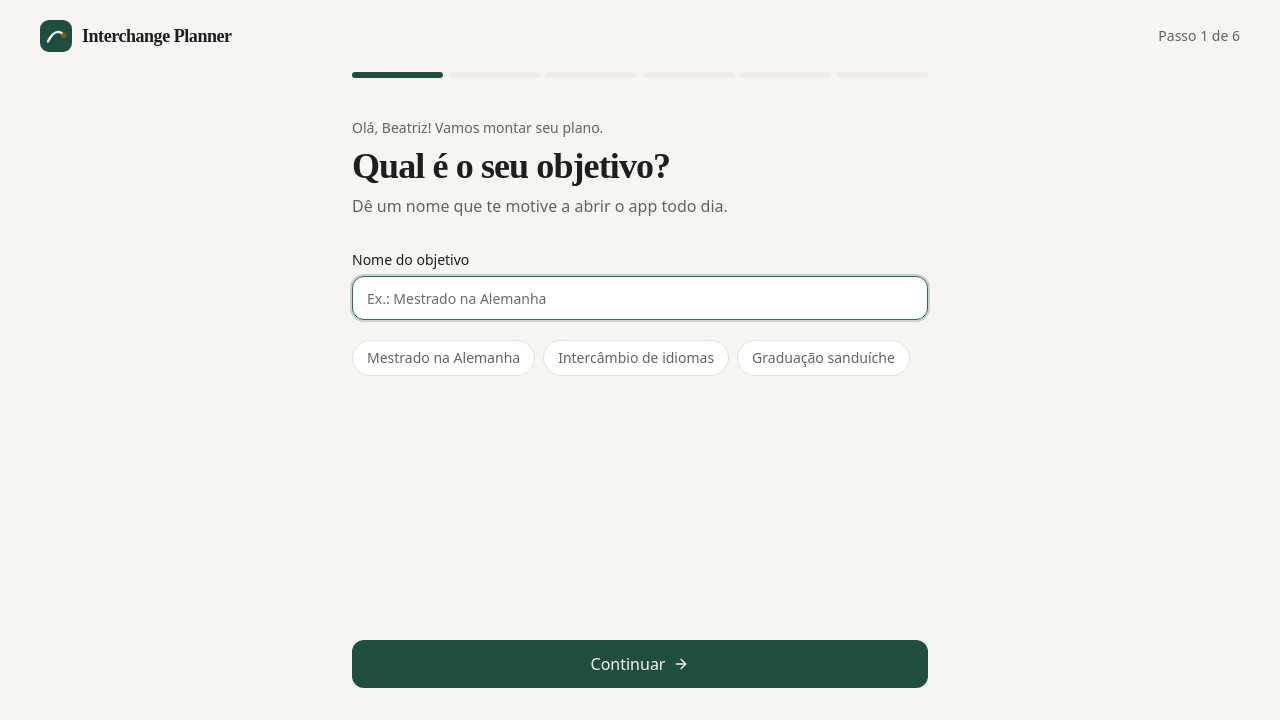
Test: OnboardingPage › não avança sem o nome do objetivo
Expected: the text "Olá, Beatriz! Vamos montar seu plano." is shown, [352, 118, 603, 137]
What coordinates should you click on to do the following:
click the button "Continuar"
I would click on:
 (640, 664)
Its box is [352, 640, 928, 688].
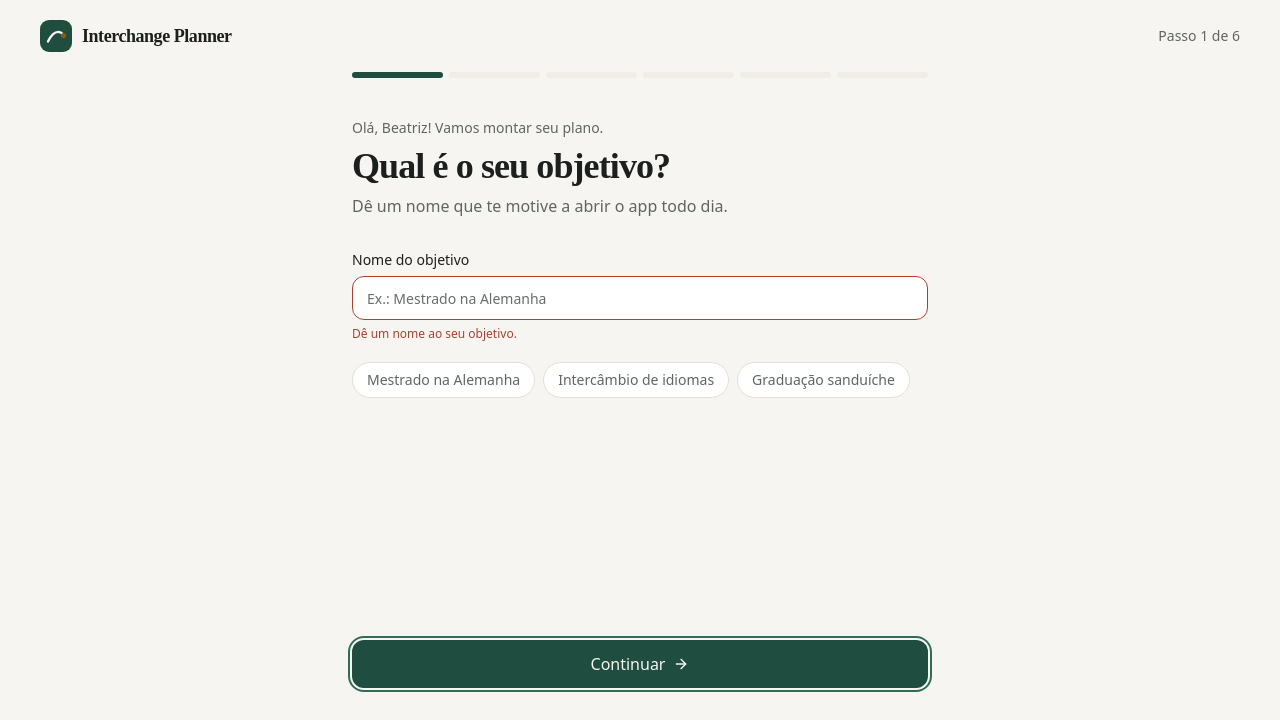
Expected: the text "Passo 1 de 6" is shown, [1158, 26, 1240, 46]
Now the text "Dê um nome ao seu objetivo." is shown, box [352, 325, 517, 342]
